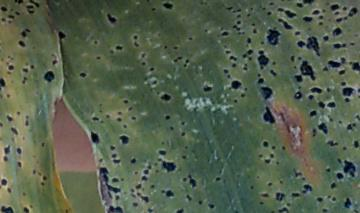tarspot: (300, 60, 316, 81), (307, 36, 320, 56), (266, 28, 280, 45), (262, 105, 275, 123), (343, 159, 356, 177), (257, 50, 269, 69), (161, 158, 176, 172), (276, 19, 293, 30), (259, 86, 272, 100), (99, 167, 109, 184), (341, 85, 353, 97), (107, 205, 125, 213), (104, 185, 121, 193), (44, 71, 55, 83), (318, 122, 328, 135), (106, 12, 117, 23), (326, 60, 341, 68), (91, 131, 100, 144), (284, 9, 296, 18), (350, 61, 360, 71), (57, 31, 68, 40), (1, 206, 14, 213), (119, 135, 129, 144), (231, 80, 241, 89), (293, 74, 303, 83), (349, 7, 358, 17), (29, 1, 40, 9), (327, 139, 338, 147), (159, 94, 171, 101), (310, 87, 322, 94), (164, 2, 174, 10), (302, 15, 313, 22), (190, 177, 197, 188), (3, 145, 11, 154), (297, 40, 306, 48), (332, 28, 341, 36), (304, 183, 312, 192), (293, 170, 302, 178), (166, 190, 175, 198), (1, 177, 8, 187), (345, 198, 351, 209), (10, 127, 18, 135), (261, 140, 269, 148), (309, 109, 317, 117), (141, 195, 149, 203), (112, 157, 121, 164), (330, 4, 339, 11), (346, 123, 353, 132), (228, 55, 238, 61), (107, 191, 113, 201), (295, 92, 302, 100), (321, 66, 329, 73), (140, 174, 148, 181), (112, 176, 120, 183), (131, 201, 139, 208), (1, 77, 6, 88), (78, 72, 87, 78), (158, 149, 167, 155), (327, 102, 336, 108), (203, 87, 213, 92), (280, 191, 285, 201), (18, 40, 25, 47), (108, 48, 115, 55), (133, 41, 140, 48), (233, 25, 240, 32), (269, 69, 276, 76), (318, 102, 325, 109), (25, 115, 29, 127), (257, 78, 265, 84), (337, 172, 343, 180), (199, 1, 207, 7), (220, 31, 229, 36), (354, 140, 359, 149), (279, 208, 288, 213), (1, 6, 8, 12), (8, 65, 14, 72), (16, 110, 22, 117), (7, 115, 13, 122), (2, 155, 8, 162), (116, 44, 123, 50), (277, 6, 284, 12), (297, 2, 304, 8), (340, 57, 346, 64), (31, 169, 37, 176), (23, 207, 30, 213), (21, 67, 29, 72), (147, 163, 152, 171), (313, 10, 321, 15), (281, 144, 286, 152), (333, 43, 341, 48), (338, 70, 346, 75), (326, 86, 331, 94), (292, 192, 300, 197), (7, 15, 16, 19), (16, 148, 22, 154), (122, 123, 128, 129), (127, 106, 133, 112), (150, 6, 156, 12), (110, 145, 116, 151), (130, 158, 136, 164), (165, 115, 171, 121), (157, 157, 163, 163), (236, 7, 242, 13), (265, 158, 271, 164), (308, 94, 314, 100), (323, 36, 329, 42), (344, 97, 350, 103), (330, 183, 336, 189), (317, 197, 323, 203), (260, 193, 269, 197), (276, 191, 280, 200), (215, 176, 221, 182), (208, 203, 214, 209), (186, 195, 192, 201), (98, 108, 104, 114), (99, 119, 105, 125), (52, 60, 59, 65), (17, 161, 22, 168), (130, 116, 137, 121), (110, 153, 117, 158), (224, 50, 231, 55), (290, 55, 295, 62), (355, 115, 360, 122), (176, 208, 183, 213), (7, 187, 12, 194), (21, 135, 26, 142), (27, 10, 35, 14), (335, 18, 343, 22), (15, 11, 21, 16), (26, 27, 31, 33), (22, 31, 27, 37), (22, 77, 27, 83), (40, 142, 46, 147), (93, 40, 99, 45), (93, 116, 99, 121), (116, 117, 122, 122), (117, 110, 122, 116), (123, 99, 129, 104), (133, 34, 138, 40), (141, 52, 146, 58), (173, 57, 178, 63), (187, 36, 193, 41), (233, 98, 238, 104), (248, 49, 253, 55), (242, 53, 247, 59), (268, 1, 274, 6), (304, 1, 314, 4), (318, 15, 324, 20), (322, 208, 328, 213), (267, 181, 272, 187), (258, 200, 264, 205), (198, 200, 203, 206), (144, 169, 149, 175), (136, 184, 142, 189), (42, 175, 47, 181), (40, 181, 45, 187), (99, 102, 104, 108), (115, 195, 120, 201), (148, 207, 153, 213), (27, 5, 34, 9), (226, 6, 233, 10), (247, 37, 251, 44), (270, 152, 274, 159), (332, 196, 336, 203), (256, 174, 260, 181), (141, 61, 146, 66), (149, 67, 154, 72), (163, 44, 168, 49), (173, 46, 178, 51), (182, 63, 187, 68), (240, 93, 245, 98), (224, 69, 229, 74), (231, 63, 236, 68), (248, 56, 253, 61), (260, 41, 265, 46), (267, 11, 272, 16), (258, 153, 263, 158), (335, 11, 340, 16), (350, 41, 355, 46), (312, 128, 317, 133), (342, 146, 347, 151), (352, 122, 357, 127), (279, 180, 284, 185), (188, 174, 193, 179), (22, 192, 27, 197), (51, 53, 56, 58), (120, 177, 125, 182), (137, 192, 142, 197), (132, 194, 137, 199), (1, 18, 7, 22), (7, 20, 13, 24), (18, 1, 24, 5), (31, 64, 35, 70), (99, 157, 103, 163), (180, 133, 186, 137), (185, 58, 189, 64), (160, 141, 166, 145), (227, 73, 231, 79), (231, 10, 237, 14), (236, 14, 242, 18), (342, 42, 346, 48), (329, 117, 333, 123), (338, 159, 342, 165), (250, 184, 254, 190), (287, 202, 291, 208), (38, 171, 42, 177), (1, 121, 4, 128), (294, 32, 301, 35), (6, 94, 11, 98), (96, 56, 101, 60), (106, 114, 110, 119), (153, 80, 157, 85), (170, 126, 174, 131), (182, 155, 186, 160), (182, 121, 186, 126), (244, 87, 248, 92), (237, 20, 241, 25), (243, 67, 248, 71), (247, 12, 251, 17), (271, 146, 276, 150), (298, 56, 302, 61), (319, 21, 323, 26), (323, 8, 327, 13), (343, 6, 347, 11), (326, 168, 331, 172), (327, 195, 332, 199), (134, 171, 139, 175), (155, 168, 159, 173), (131, 188, 135, 193), (177, 56, 183, 59), (276, 160, 279, 166), (10, 8, 14, 12), (7, 55, 11, 59), (185, 146, 189, 150), (253, 29, 257, 33), (250, 7, 254, 11), (262, 7, 266, 11), (257, 73, 261, 77), (298, 86, 302, 90), (344, 16, 348, 20), (342, 82, 346, 86), (338, 120, 342, 124), (183, 178, 187, 182), (162, 190, 166, 194), (205, 28, 208, 33), (251, 23, 256, 26), (273, 61, 276, 66), (294, 65, 297, 70), (311, 134, 316, 137), (358, 86, 360, 93), (241, 31, 245, 34), (245, 63, 248, 67), (303, 178, 306, 182), (271, 210, 275, 213), (65, 209, 68, 213), (145, 1, 150, 3), (358, 94, 360, 99), (152, 185, 155, 188), (14, 1, 18, 3)
